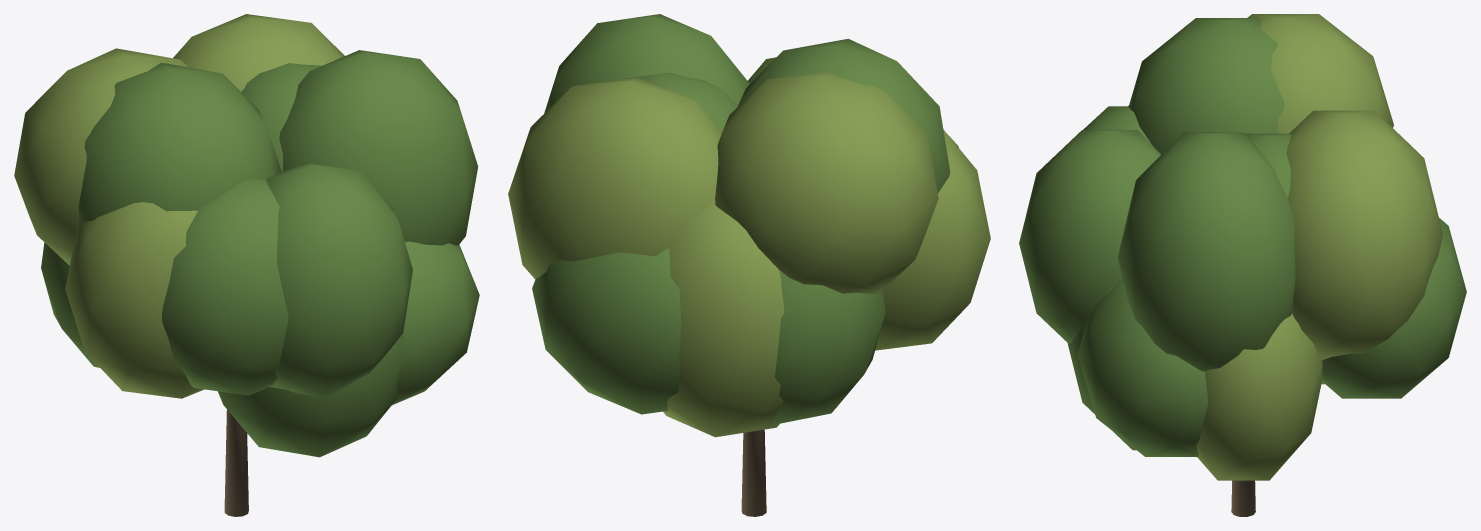
File: tree-high.glb
3 views of the same model, side by side, from view 1: azimuth 30°, elevation 25°; view 2: azimuth 150°, elevation 25°; view 3: azimuth 270°, elevation 25° (orthographic). The views are drawn at different scales.
Parts seen in each view (by area): view 1: Beech_high; view 2: Beech_high; view 3: Beech_high.
Part boxes in pixels (x1,y1,x2,y2): Beech_high: (14,14,479,516); Beech_high: (508,14,990,516); Beech_high: (1019,14,1466,516).
Size of the model in its own units: 12.52 by 13.99 by 12.46.
